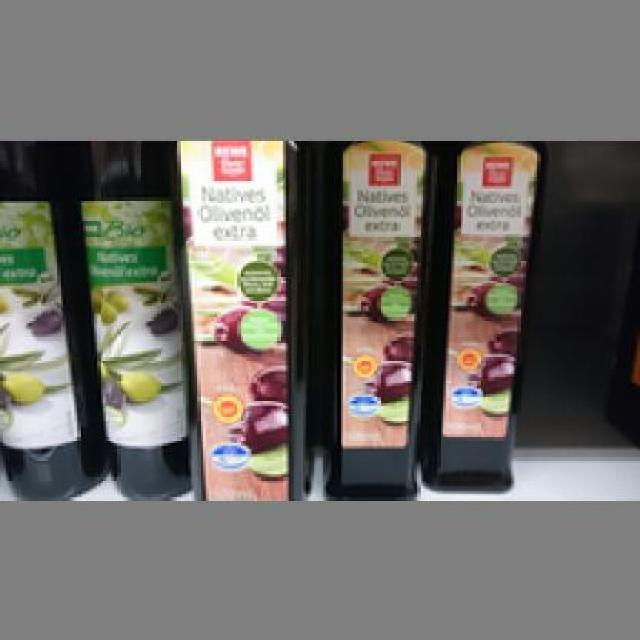Oil: (172, 137, 306, 494), (72, 137, 192, 494), (314, 137, 432, 497), (425, 137, 541, 492), (0, 137, 103, 494)
